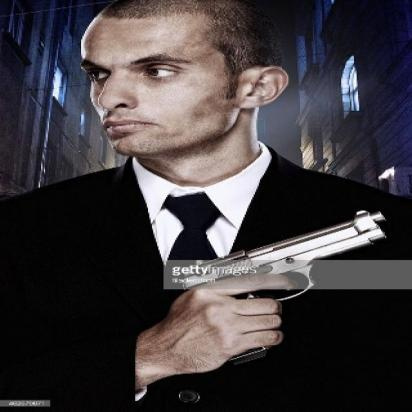Gun: (172, 207, 382, 364)
